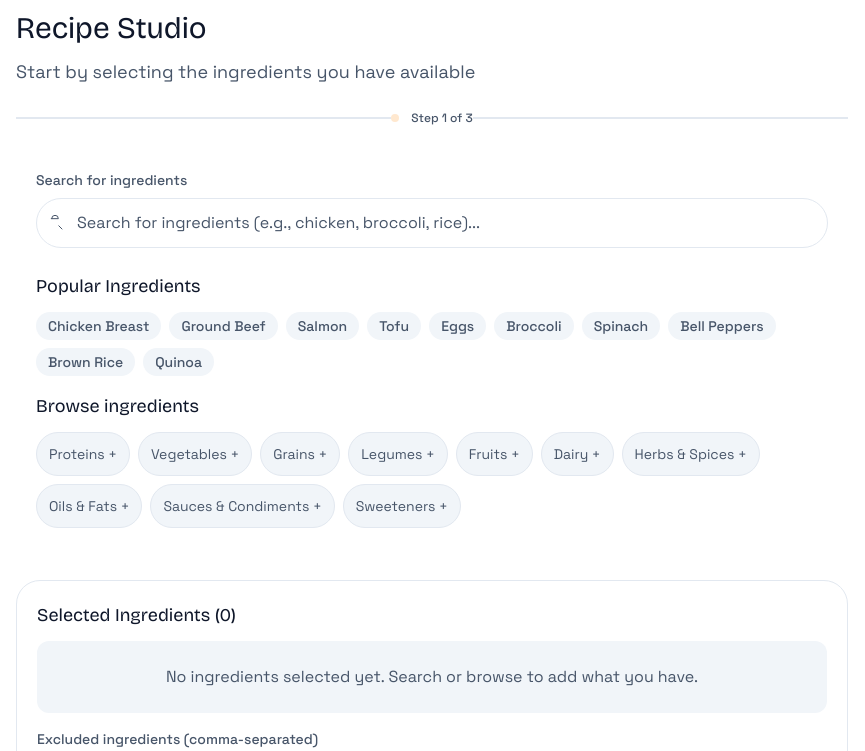
Scenario: Studio unknown custom name remains selectable
Type "Regional herb mix" into the search field with placeholder "Search for ingredients (e.g., chicken, broccoli, rice)..." at (432, 223), box [36, 198, 828, 248]
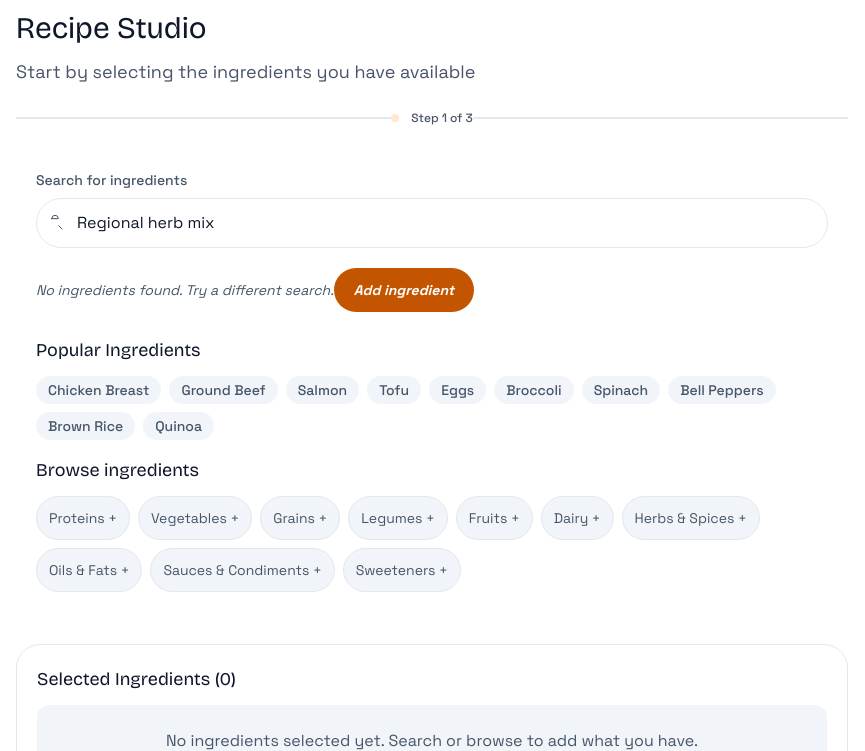
Click the button "Add ingredient" at (404, 290), box [334, 268, 474, 312]
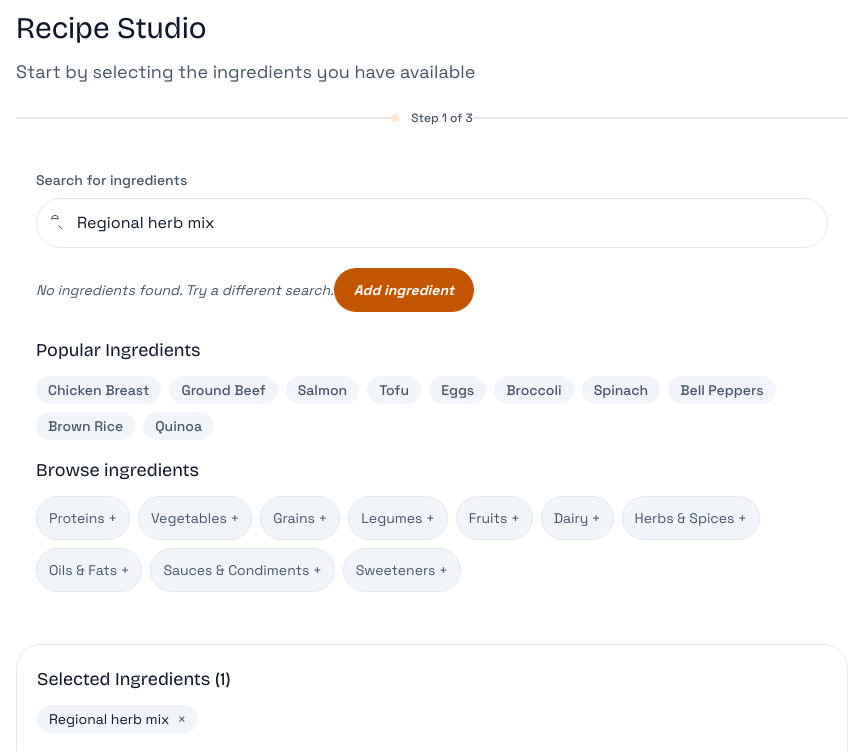
Now the button named "Remove Regional herb mix" is shown, box [177, 709, 186, 729]
